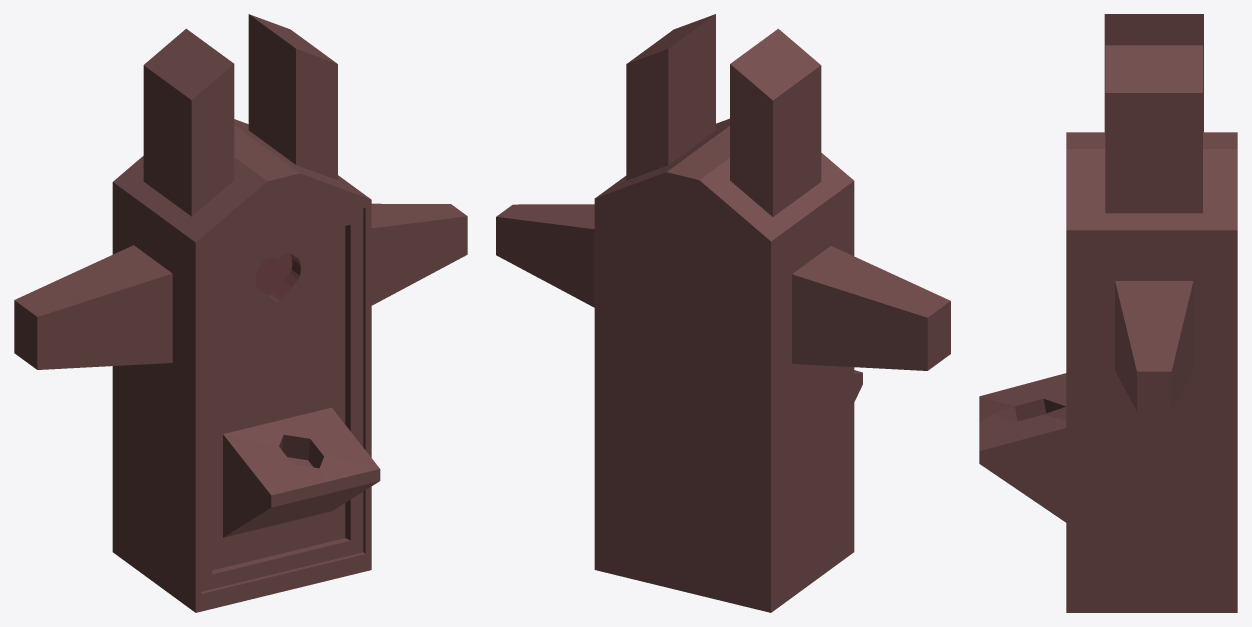
Rendered from Toilet3.fbx.
The picture shows the model from 3 angles, left to right: view 1: azimuth 30°, elevation 25°; view 2: azimuth 150°, elevation 25°; view 3: azimuth 270°, elevation 25°; orthographic projection. The views are drawn at different scales.
Visible parts, largest first — view 1: Cube.016; view 2: Cube.016; view 3: Cube.016.
Part boxes in pixels (left/top/right/bottom): Cube.016: left=14, top=14, right=467, bottom=612; Cube.016: left=496, top=14, right=950, bottom=612; Cube.016: left=979, top=14, right=1237, bottom=612.
Bounding box in the file's own units: 960 × 1104 × 480.
